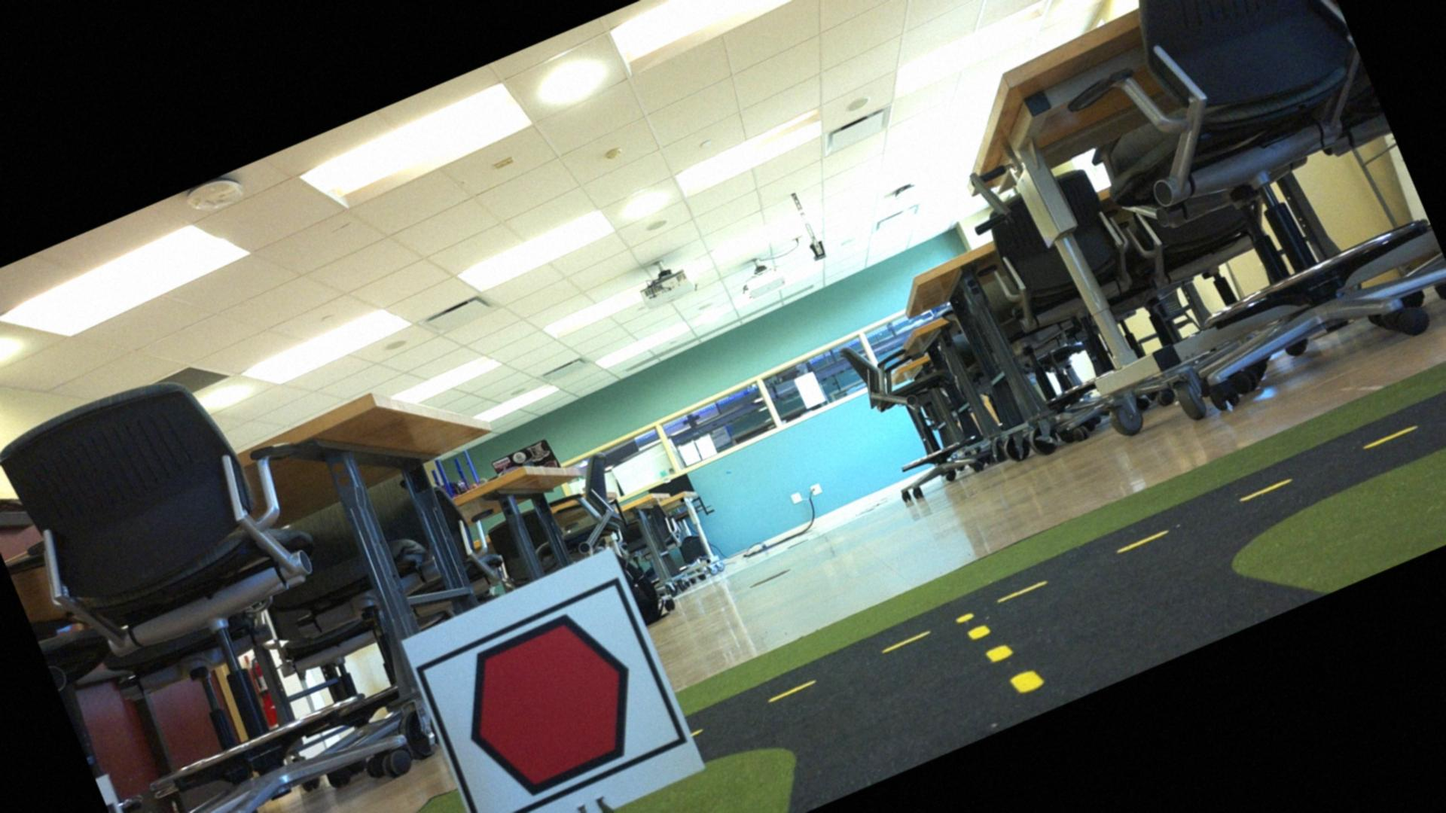stop: (426, 588, 675, 812)
yellowline: (956, 592, 1046, 710)
